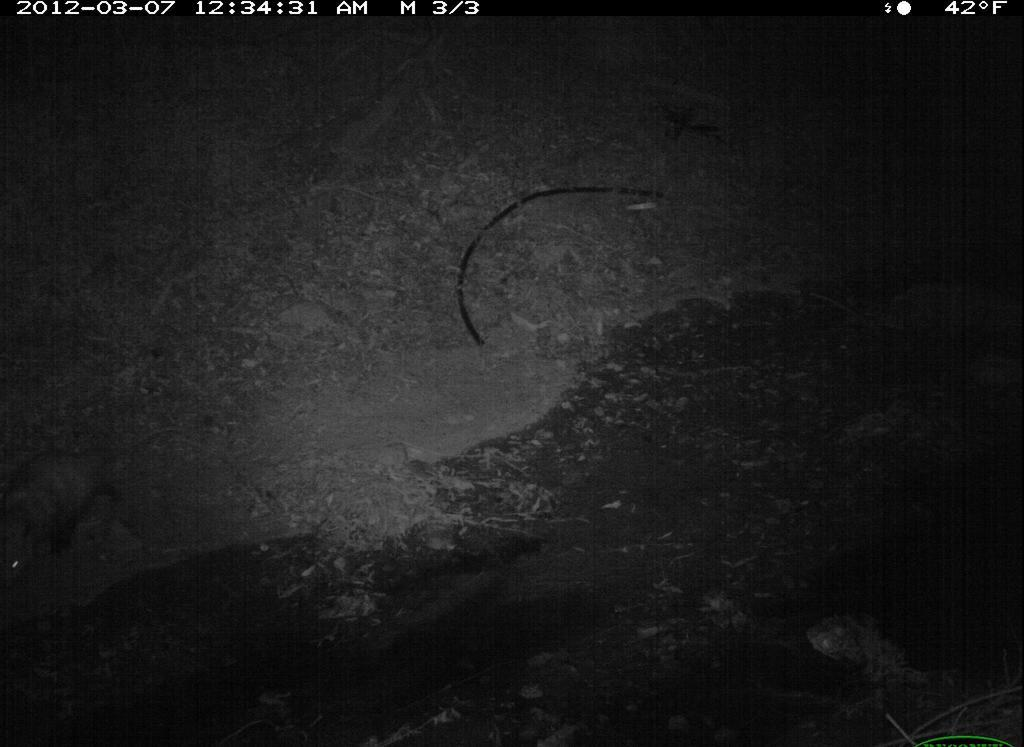opossum: (1, 436, 137, 597)
